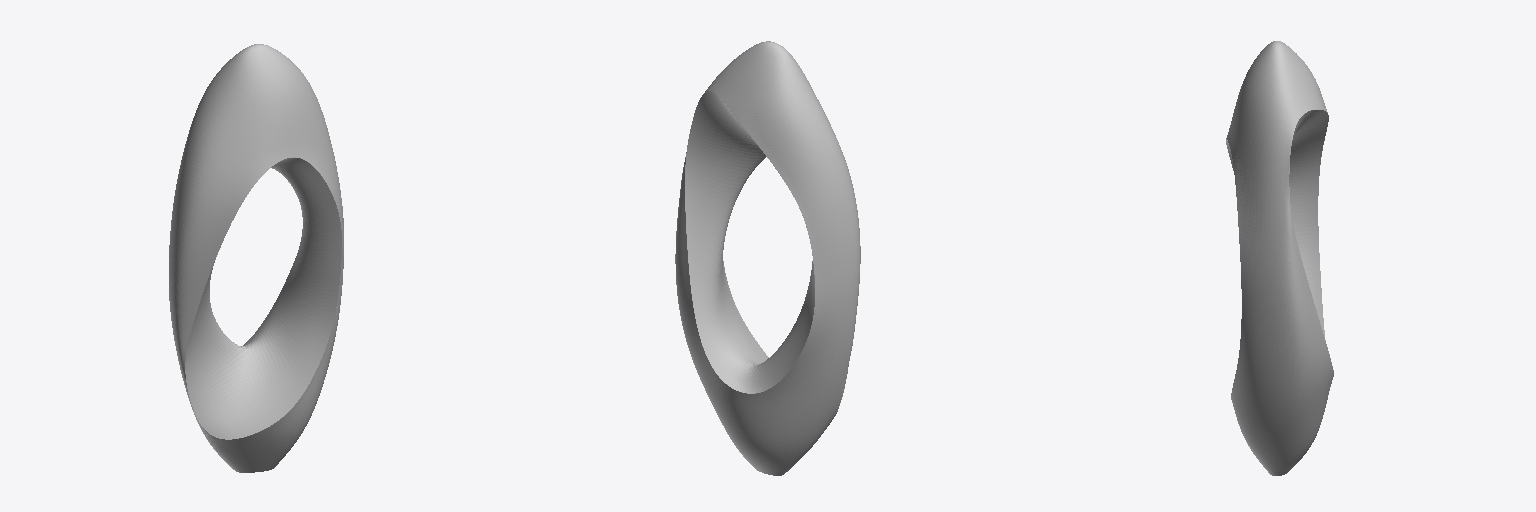
File: ashapes_06.obj
3 views of the same model, side by side, from view 1: azimuth 30°, elevation 25°; view 2: azimuth 150°, elevation 25°; view 3: azimuth 270°, elevation 25° (orthographic).
Parts seen in each view (by area): view 1: Shape_6; view 2: Shape_6; view 3: Shape_6.
Boxes of the visible parts, box(x1,y1,x2,y2) form: Shape_6: box(169, 44, 343, 472); Shape_6: box(675, 41, 860, 475); Shape_6: box(1226, 41, 1333, 475).
Size of the model in its own units: 10.84 by 25.63 by 5.9.